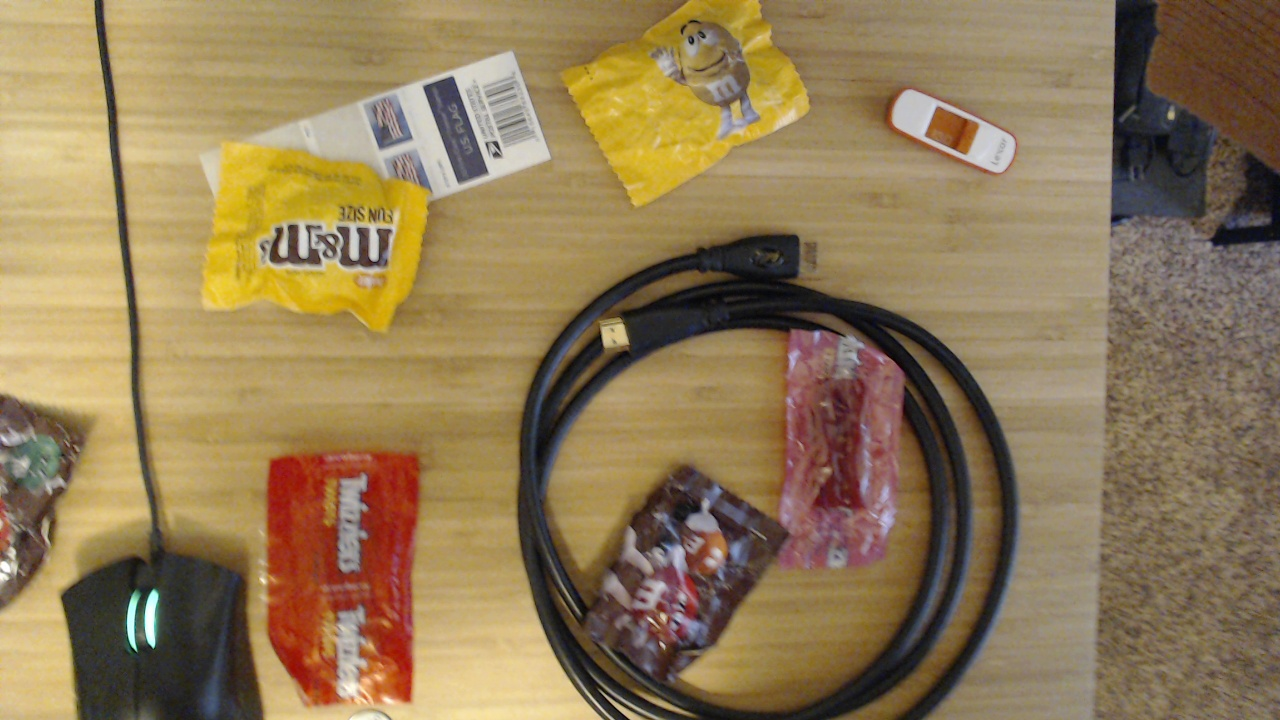MMs_peanut: (565, 446, 774, 710), (0, 384, 93, 632)
MMs_regular: (200, 127, 434, 344)
twizzlers: (235, 444, 460, 715), (550, 4, 828, 214), (777, 325, 922, 574)
